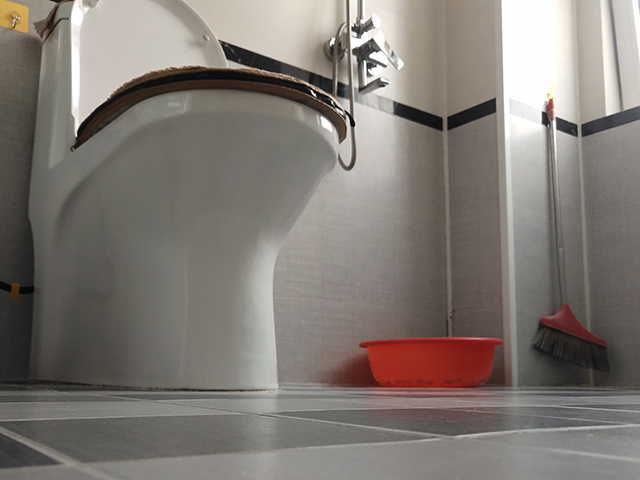closestool: (22, 1, 351, 394)
